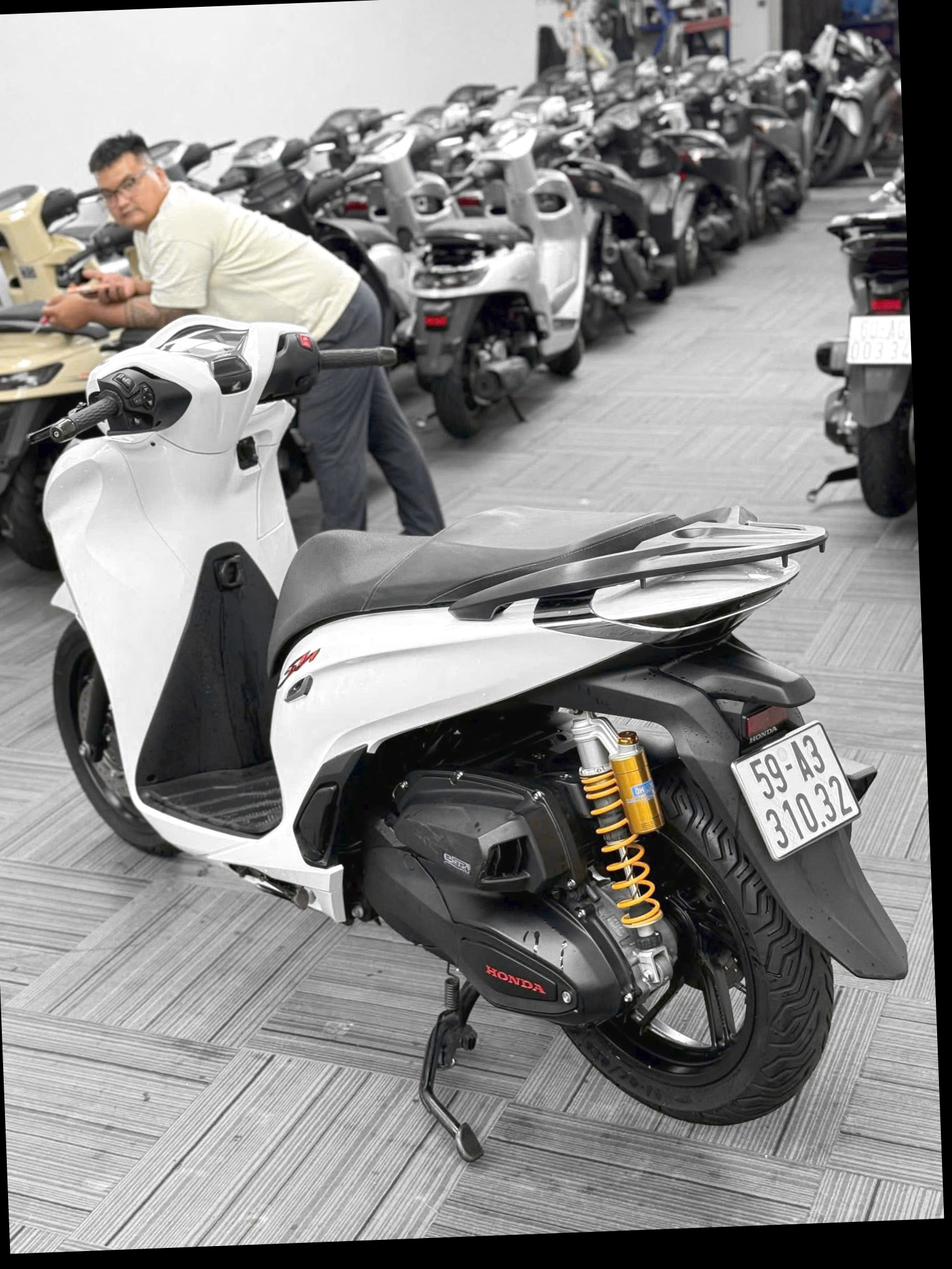Bien-so: (733, 716, 872, 866)
